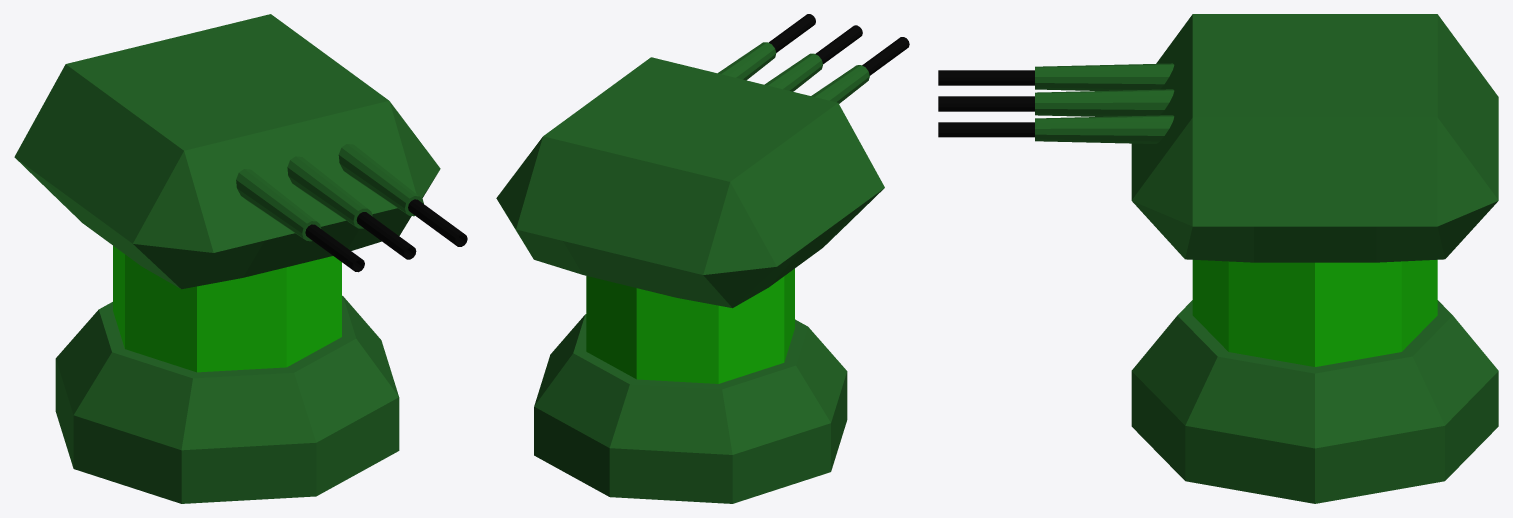
File: Turret2_0.glb
3 views of the same model, side by side, from view 1: azimuth 30°, elevation 25°; view 2: azimuth 150°, elevation 25°; view 3: azimuth 270°, elevation 25° (orthographic). The views are drawn at different scales.
Visible parts, largest first — view 1: TurretUpgradePath2_0; view 2: TurretUpgradePath2_0; view 3: TurretUpgradePath2_0.
Part boxes in pixels (box(x1,y1,x2,y2)): TurretUpgradePath2_0: box(14, 14, 467, 503); TurretUpgradePath2_0: box(496, 14, 909, 503); TurretUpgradePath2_0: box(938, 14, 1498, 503).
Bounding box in the file's own units: 3 × 3.25 × 4.58.
